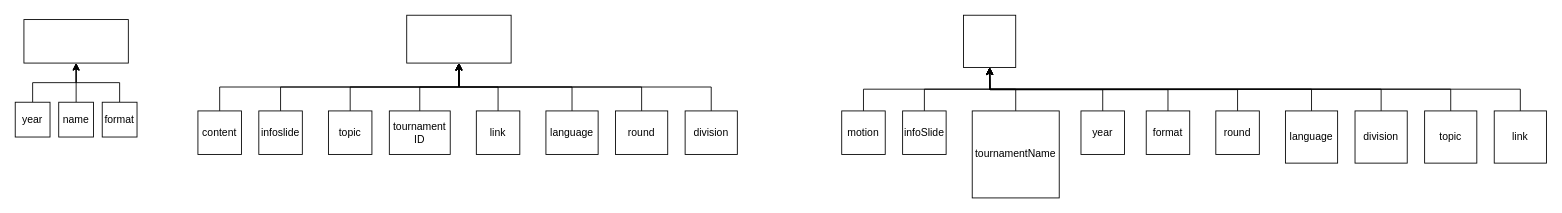
The diagram is 1562 pixels wide and 213 high, and some of its shapes have lost their labels. The centre of each missing label's shape, as x and y in pixels:
"motions" belongs at (458,38).
"requests" belongs at (989,40).
"tournaments" belongs at (75,41).
